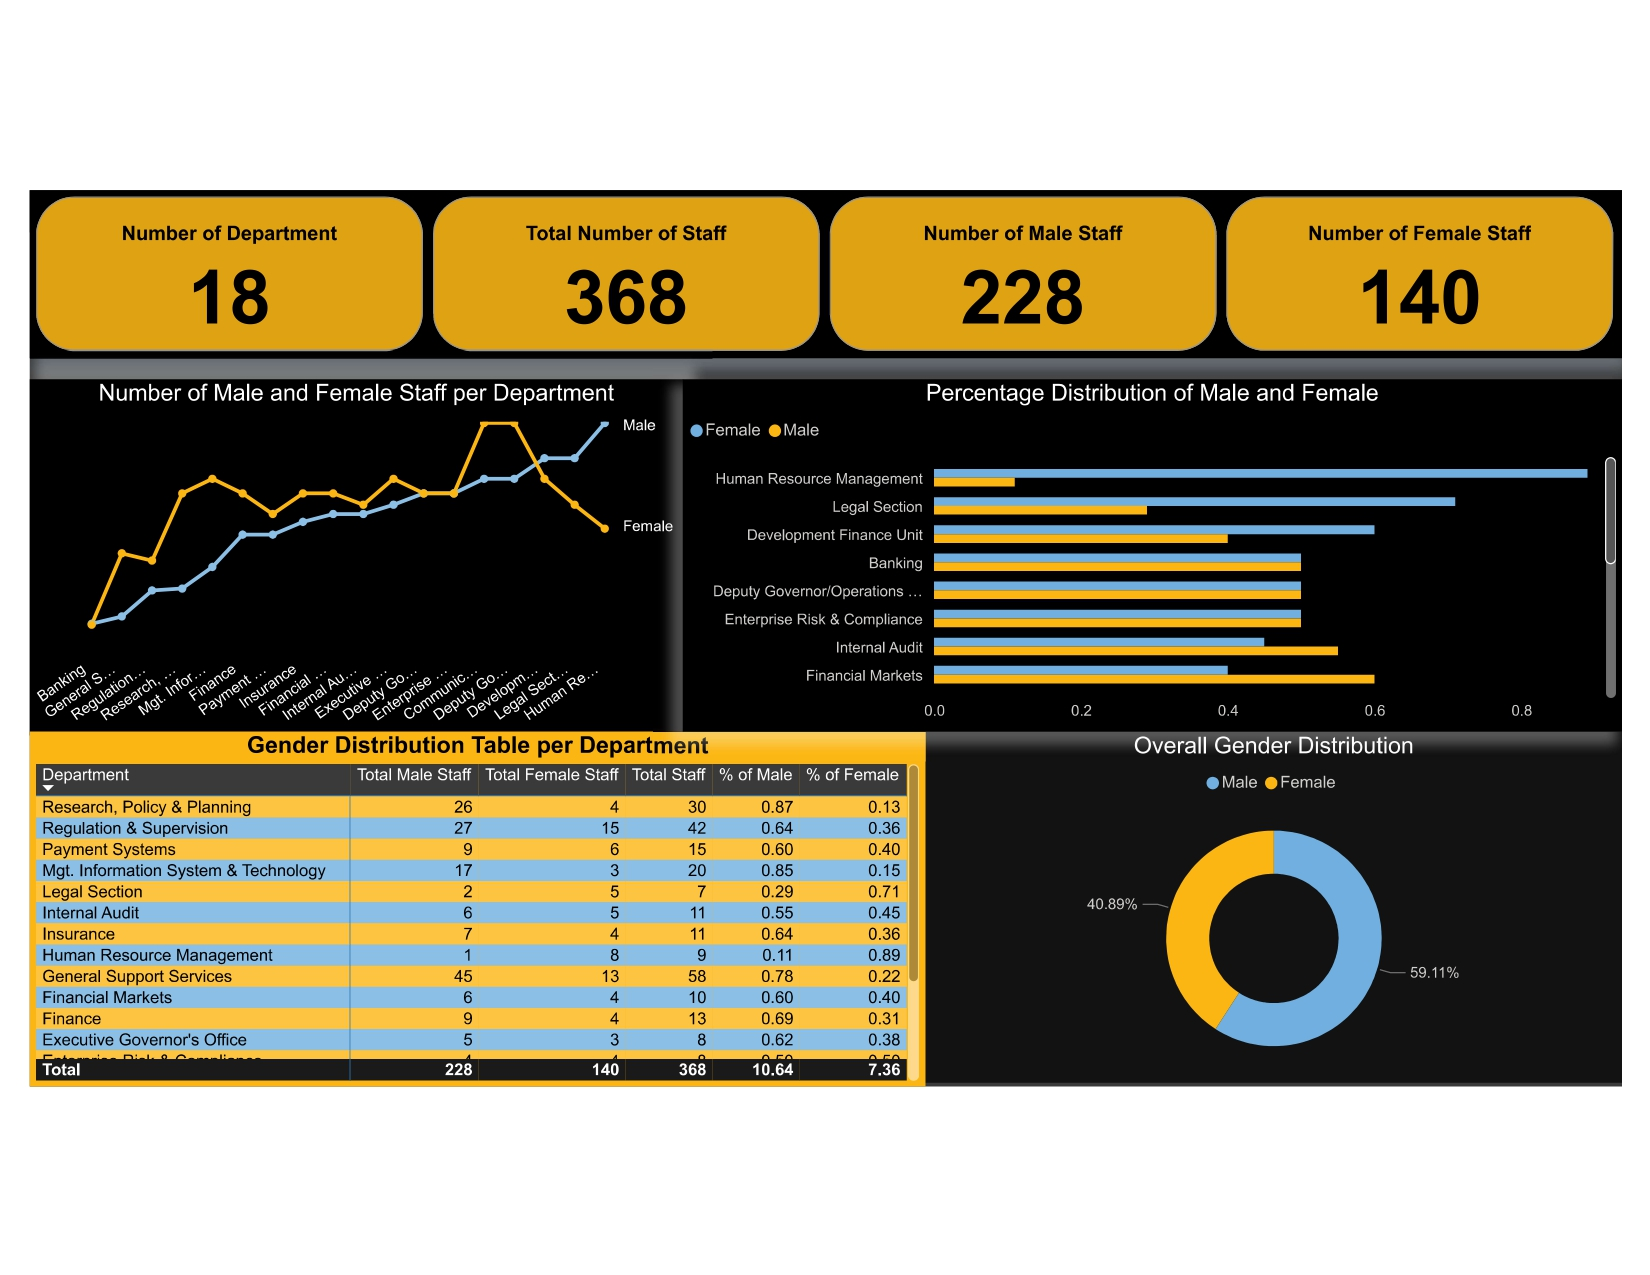

The page's visual inventory and layout, read from the dashboard file:
{"tool":"powerbi","page":{"name":"Page 1","canvas":[1280,720],"ordinal":0},"visuals":[{"type":"cardVisual","fields":{"Data":["Count(CBL_Staff.NO.)","Sum(CBL_Staff.Total # of staff)","Sum(CBL_Staff.# of males)","Sum(CBL_Staff.# of females)"]},"box":[0,0,1280.5,134.6],"z":0},{"type":"lineChart","title":"Number of Male and Female Staff per Department","fields":{"Category":["CBL_Staff.Department"],"Y2":["Sum(CBL_Staff.# of males)","Sum(CBL_Staff.# of females)"]},"box":[0,152.2,525.4,285.4],"z":1000},{"type":"donutChart","title":"Overall Gender Distribution","fields":{"Y":["Sum(CBL_Staff.% of male)","Sum(CBL_Staff.% of female)"]},"box":[720,434.6,560.5,282.4],"z":2000},{"type":"pivotTable","title":"Gender Distribution Table per Department","fields":{"Values":["Sum(CBL_Staff.# of males)","Sum(CBL_Staff.# of females)","Sum(CBL_Staff.Total # of staff)","Sum(CBL_Staff.% of male)","Sum(CBL_Staff.% of female)"],"Rows":["CBL_Staff.Department"]},"box":[0,434.6,720,285.4],"z":3000},{"type":"clusteredBarChart","title":"Percentage Distribution of Male and Female","fields":{"Category":["CBL_Staff.Department"],"Y":["Sum(CBL_Staff.% of female)","Sum(CBL_Staff.% of male)"]},"box":[525.4,152.2,755.1,282.4],"z":4000}]}

Visuals, with their boxes on the page's 1280x720 design canvas (x1, y1, x2, y2). These are canvas units, not pixel positions in the 1650x1275 screenshot, which may show the page scaled, cropped or inside an application window:
cardVisual - Count(CBL_Staff.NO.) x Sum(CBL_Staff.Total # of staff): (0,0,1280,135)
"Number of Male and Female Staff per Department" lineChart: (0,152,525,438)
"Overall Gender Distribution" donutChart: (720,435,1280,717)
"Gender Distribution Table per Department" pivotTable: (0,435,720,720)
"Percentage Distribution of Male and Female" clusteredBarChart: (525,152,1280,435)
